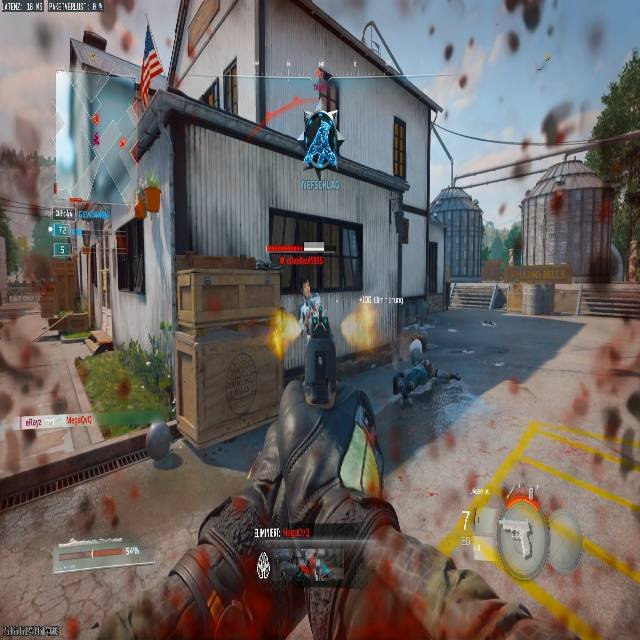head: (408, 338, 424, 363)
player: (288, 288, 333, 389), (390, 335, 434, 411), (301, 107, 340, 171)
